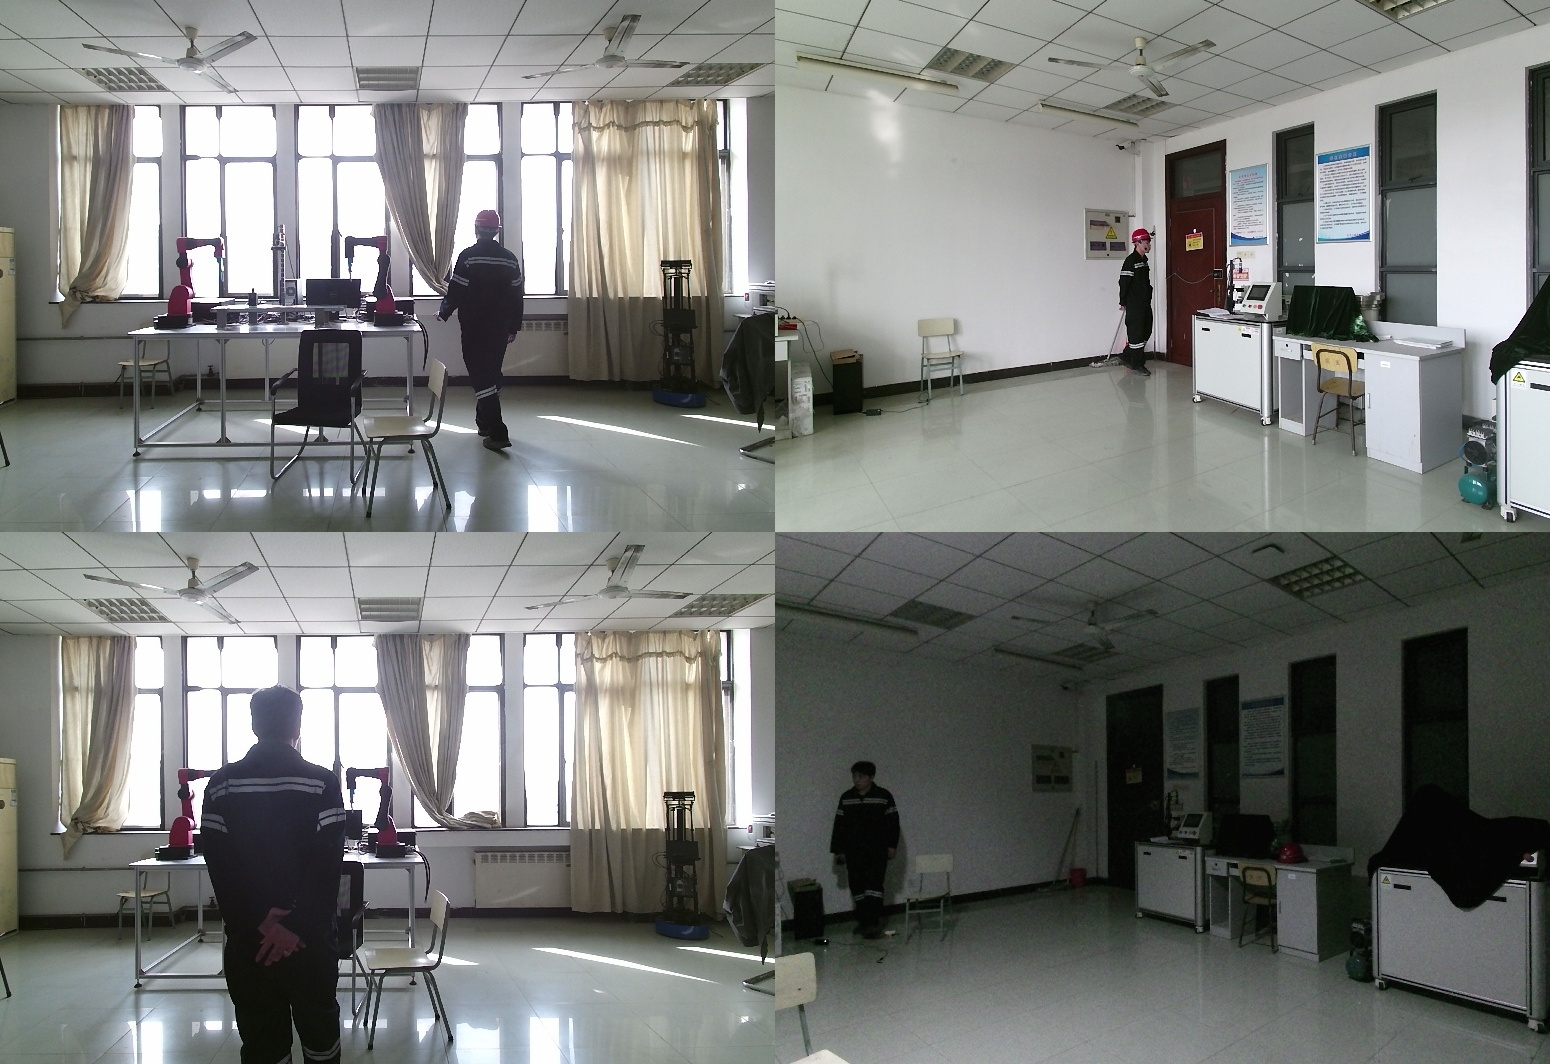person: (201, 686, 362, 1064), (439, 207, 529, 455), (832, 763, 897, 935), (1114, 229, 1155, 379)
